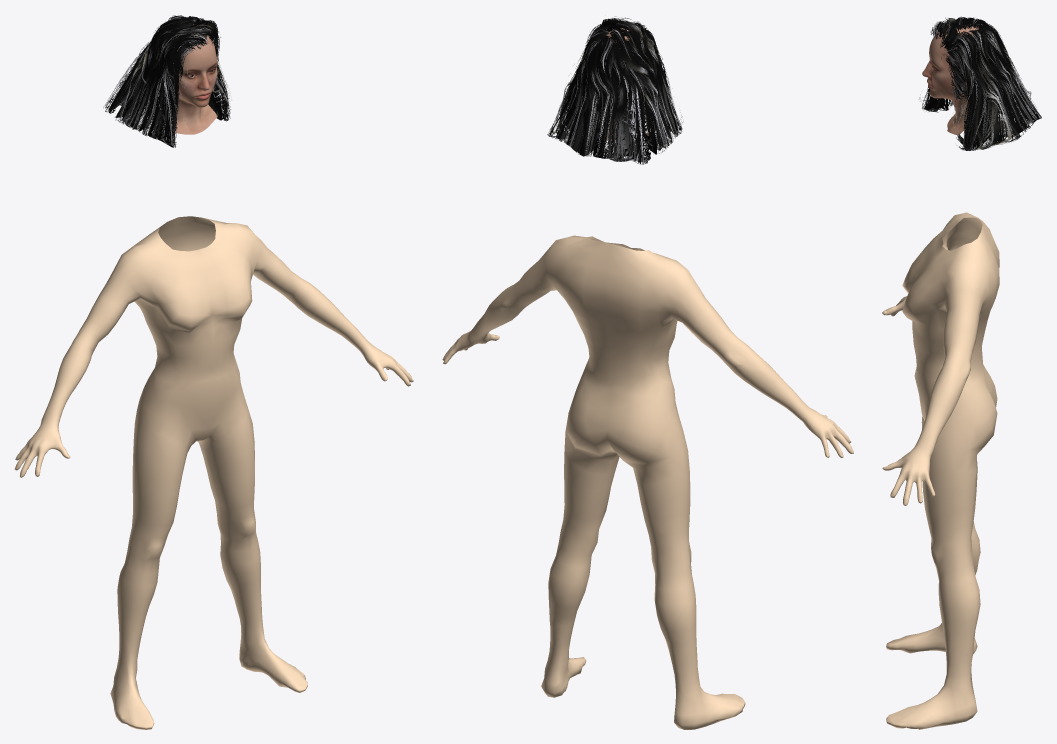
The model's file is sideGirl.fbx.
3 views of the same model, side by side, from view 1: azimuth 30°, elevation 25°; view 2: azimuth 150°, elevation 25°; view 3: azimuth 270°, elevation 25° (orthographic). The views are drawn at different scales.
Visible parts, largest first — view 1: Body_Lores_GEO, Anna_Hair, Anna_Head; view 2: Body_Lores_GEO, Anna_Hair; view 3: Body_Lores_GEO, Anna_Hair, Anna_Head.
Boxes of the visible parts, x1=… form: Body_Lores_GEO: x1=14, y1=216, x2=413, y2=729; Anna_Hair: x1=103, y1=15, x2=231, y2=147; Anna_Head: x1=164, y1=24, x2=217, y2=134; Body_Lores_GEO: x1=442, y1=235, x2=853, y2=729; Anna_Hair: x1=547, y1=16, x2=683, y2=164; Body_Lores_GEO: x1=882, y1=212, x2=999, y2=729; Anna_Hair: x1=918, y1=16, x2=1041, y2=150; Anna_Head: x1=922, y1=24, x2=982, y2=135.
Bounding box in the file's own units: 127 × 206 × 44.61.
